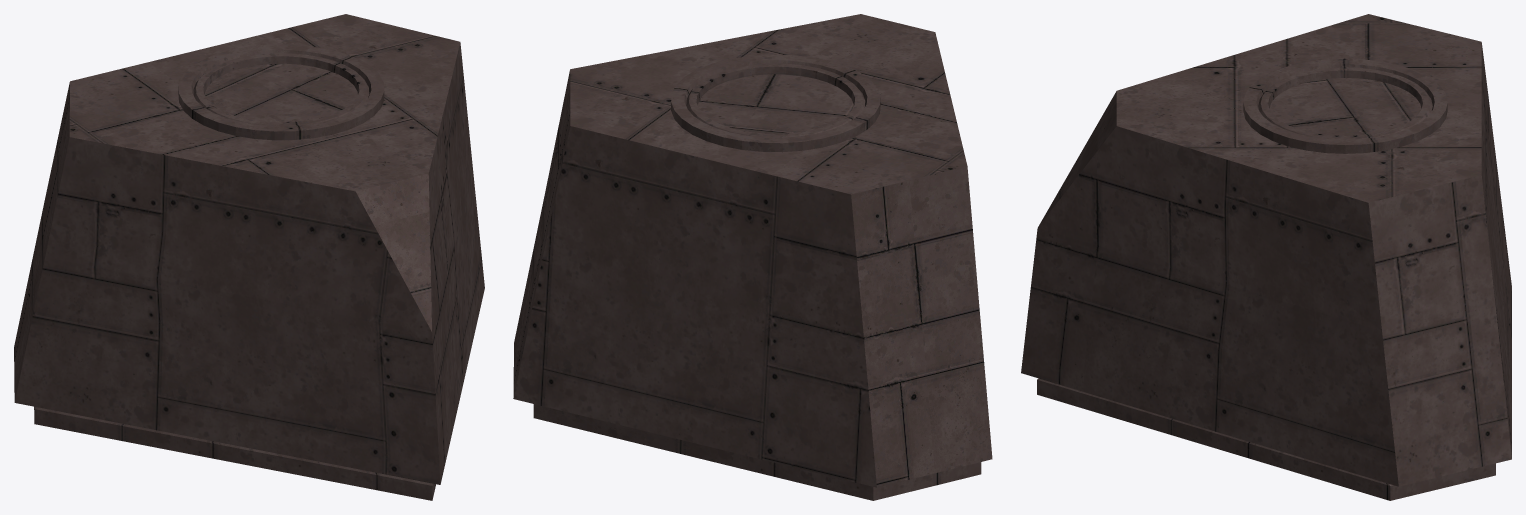
File: RobotPiece15.fbx
The picture shows the model from 3 angles, left to right: view 1: azimuth 30°, elevation 25°; view 2: azimuth 150°, elevation 25°; view 3: azimuth 270°, elevation 25°; orthographic projection. The views are drawn at different scales.
Visible parts, largest first — view 1: SM_ENV_STRUCT_ScrapYard_RobotPiece_15.mo; view 2: SM_ENV_STRUCT_ScrapYard_RobotPiece_15.mo; view 3: SM_ENV_STRUCT_ScrapYard_RobotPiece_15.mo.
Boxes of the visible parts, x1=… form: SM_ENV_STRUCT_ScrapYard_RobotPiece_15.mo: x1=14, y1=14, x2=484, y2=500; SM_ENV_STRUCT_ScrapYard_RobotPiece_15.mo: x1=513, y1=14, x2=992, y2=500; SM_ENV_STRUCT_ScrapYard_RobotPiece_15.mo: x1=1021, y1=14, x2=1511, y2=500.
Bounding box in the file's own units: 1508 × 912 × 1376.
Materials: 2 (2 with a texture image).
